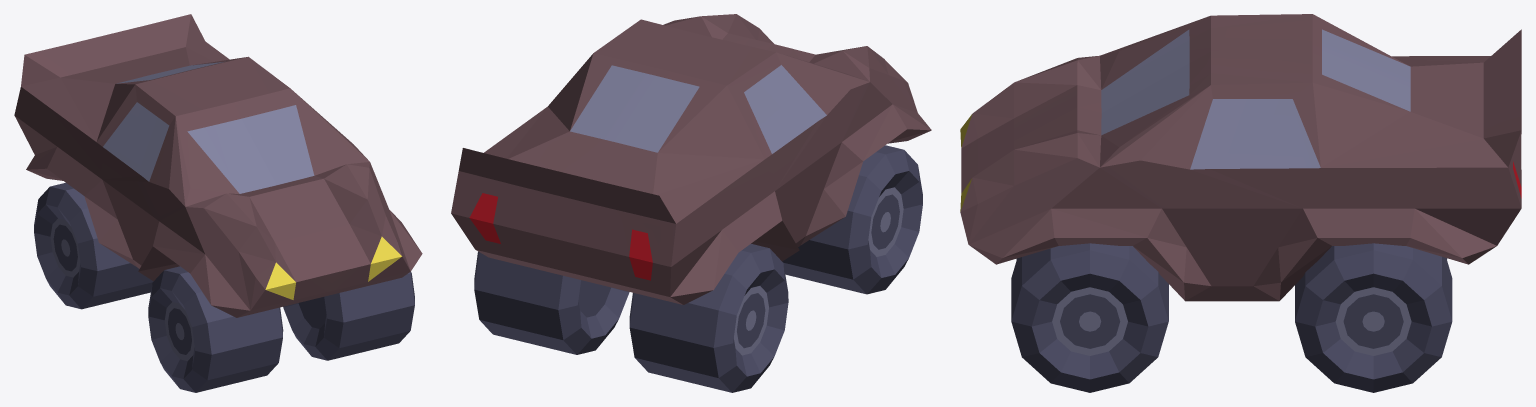
Rendered from Car_Brown.fbx.
The picture shows the model from 3 angles, left to right: view 1: azimuth 30°, elevation 25°; view 2: azimuth 150°, elevation 25°; view 3: azimuth 270°, elevation 25°; orthographic projection. The views are drawn at different scales.
Parts seen in each view (by area): view 1: Car_Brown; view 2: Car_Brown; view 3: Car_Brown.
Boxes of the visible parts, x1,y1,x2,y2 form: Car_Brown: (14,14,422,392); Car_Brown: (451,14,931,392); Car_Brown: (960,14,1521,392).
Size of the model in its own units: 108 by 107 by 193.
